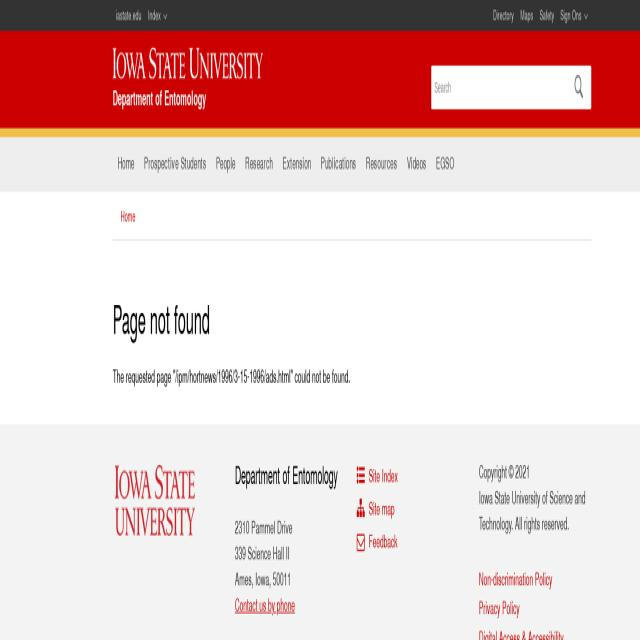button: (115, 464, 195, 536), (113, 48, 263, 78), (139, 136, 211, 190), (316, 137, 362, 191), (361, 137, 402, 191), (240, 137, 278, 191), (278, 137, 316, 191), (402, 136, 432, 190), (211, 137, 241, 191), (431, 137, 459, 191), (113, 137, 139, 191), (574, 66, 584, 110)
field: (431, 66, 592, 110)
